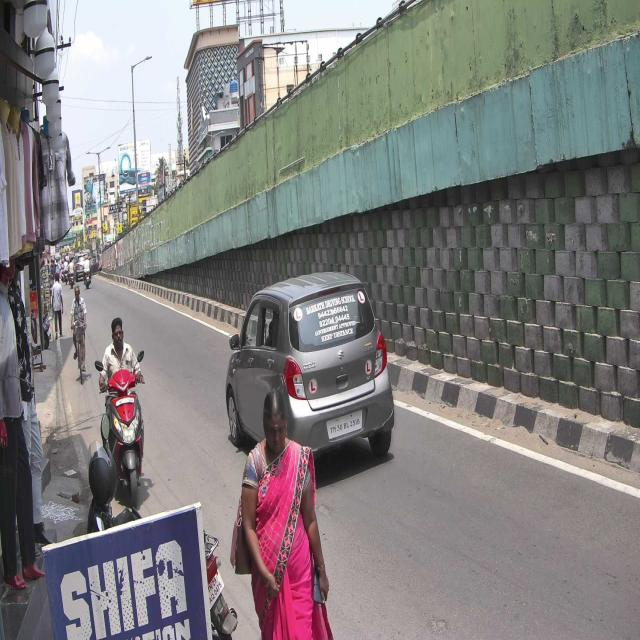single_rider: (96, 316, 150, 506)
